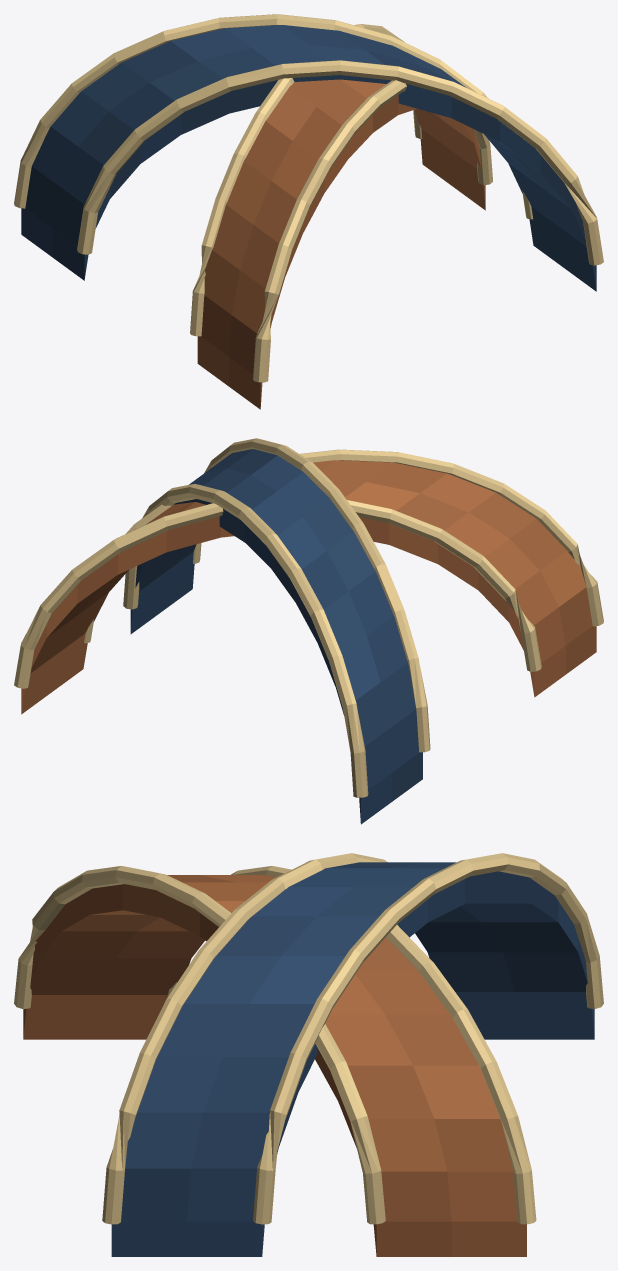
Rendered from ES_06_Crossed_Leather_Straps.fbx.
3 renders of one model, top to bottom at view 1: azimuth 30°, elevation 25°; view 2: azimuth 150°, elevation 25°; view 3: azimuth 270°, elevation 25°, orthographic. The views are drawn at different scales.
Visible parts, largest first — view 1: ES_06_Crossed_Leather_Straps; view 2: ES_06_Crossed_Leather_Straps; view 3: ES_06_Crossed_Leather_Straps.
Boxes of the visible parts, box(x1,y1,x2,y2) form: ES_06_Crossed_Leather_Straps: box(14, 14, 603, 409); ES_06_Crossed_Leather_Straps: box(14, 438, 603, 824); ES_06_Crossed_Leather_Straps: box(14, 853, 603, 1256).
Bounding box in the file's own units: 1.03 × 0.573 × 1.14.
Materials: 3 (3 with a texture image).
